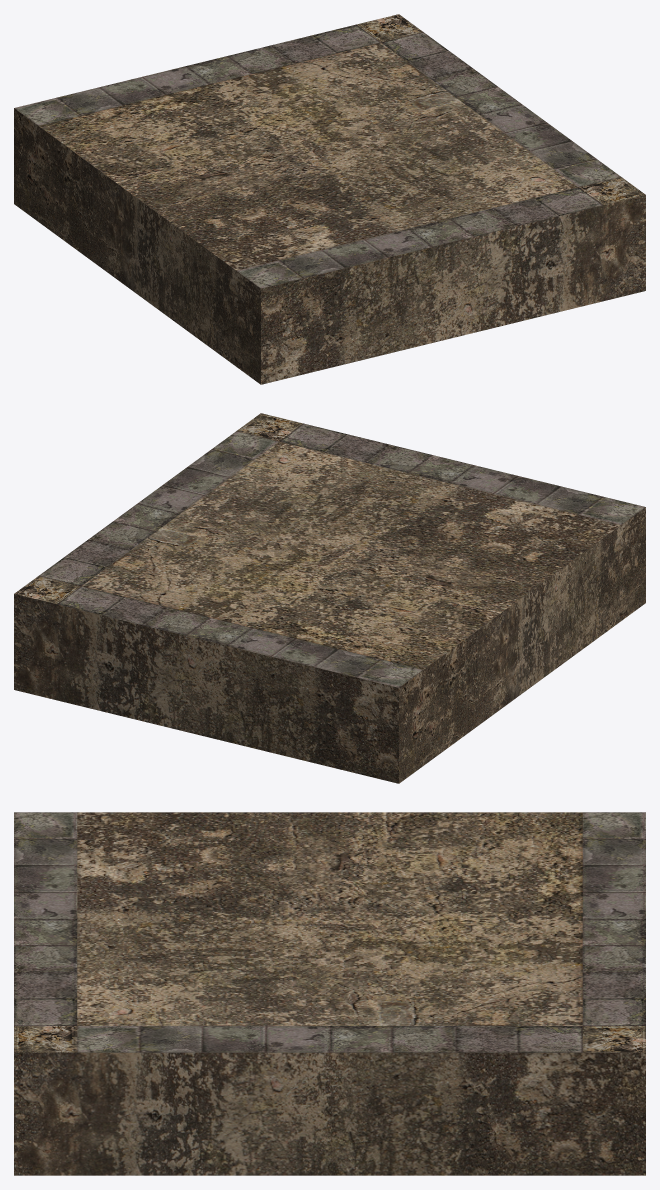
Rendered from materials_5_floor_rectangle_7.fbx.
3 renders of one model, top to bottom at view 1: azimuth 30°, elevation 25°; view 2: azimuth 150°, elevation 25°; view 3: azimuth 270°, elevation 25°, orthographic. The views are drawn at different scales.
Visible parts, largest first — view 1: materials_5_floor_rectangle_7; view 2: materials_5_floor_rectangle_7; view 3: materials_5_floor_rectangle_7.
Boxes of the visible parts, x1=… form: materials_5_floor_rectangle_7: x1=14, y1=14, x2=645, y2=384; materials_5_floor_rectangle_7: x1=14, y1=413, x2=645, y2=783; materials_5_floor_rectangle_7: x1=14, y1=812, x2=645, y2=1175.
Size of the model in its own units: 180 by 42.89 by 200.
